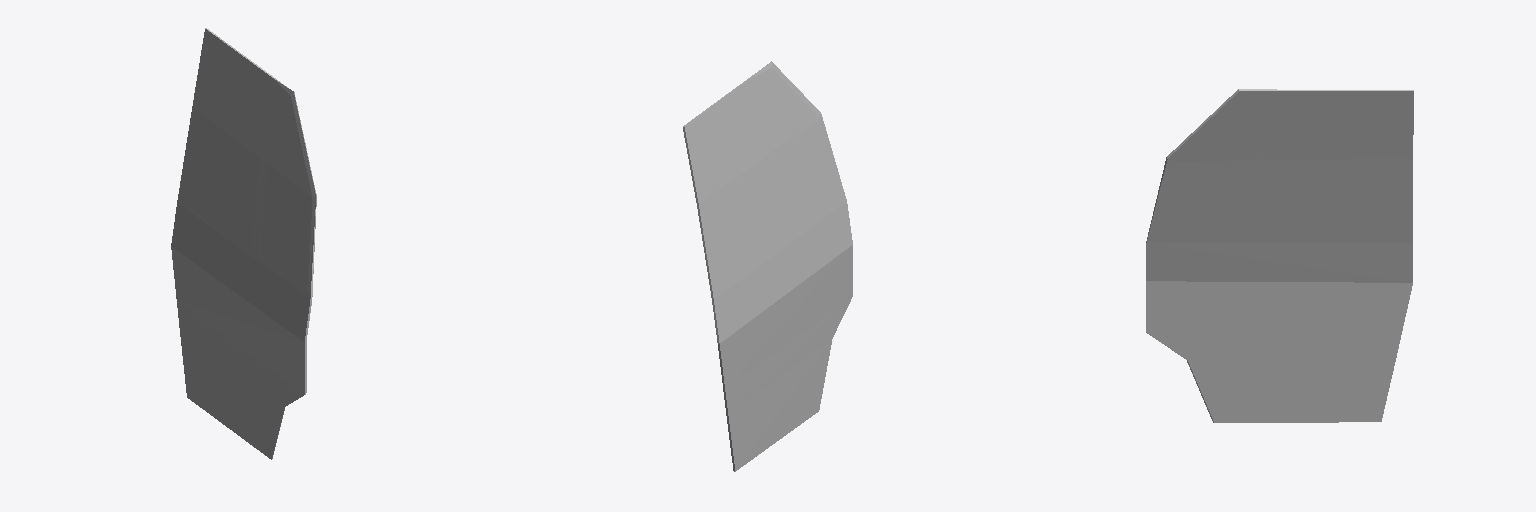
File: van_frontdoor_R.obj
3 renders of one model, left to right at view 1: azimuth 30°, elevation 25°; view 2: azimuth 150°, elevation 25°; view 3: azimuth 270°, elevation 25°, orthographic.
Visible parts, largest first — view 1: FrontDoorRight; view 2: FrontDoorRight; view 3: FrontDoorRight.
Part boxes in pixels (bbox=[...]): FrontDoorRight: bbox=[171, 28, 316, 459]; FrontDoorRight: bbox=[683, 61, 852, 471]; FrontDoorRight: bbox=[1146, 89, 1413, 422].
Bounding box in the file's own units: 0.1804 × 1.65 × 1.15.